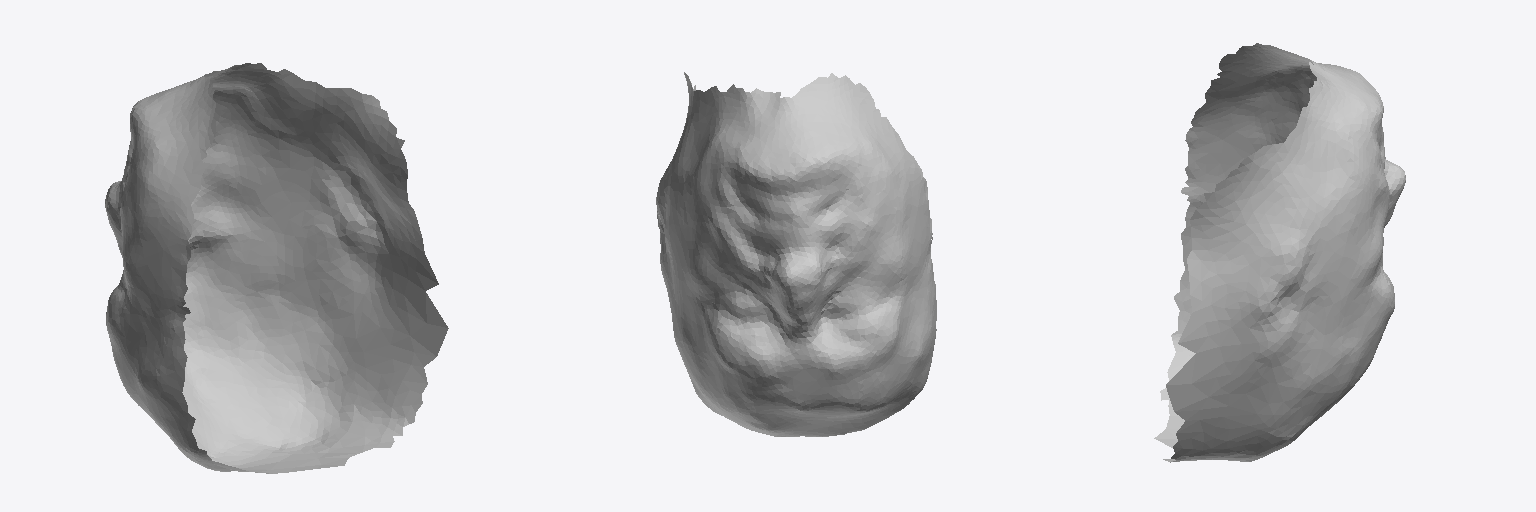
The model's file is laslo2.obj.
The picture shows the model from 3 angles: view 1: azimuth 30°, elevation 25°; view 2: azimuth 150°, elevation 25°; view 3: azimuth 270°, elevation 25°; orthographic projection.
Visible parts, largest first — view 1: default; view 2: default; view 3: default.
Boxes of the visible parts, box(x1,y1,x2,y2) form: default: box(105, 63, 448, 473); default: box(656, 72, 936, 436); default: box(1154, 43, 1405, 462).
Bounding box in the file's own units: 6.29 × 8.34 × 5.06.